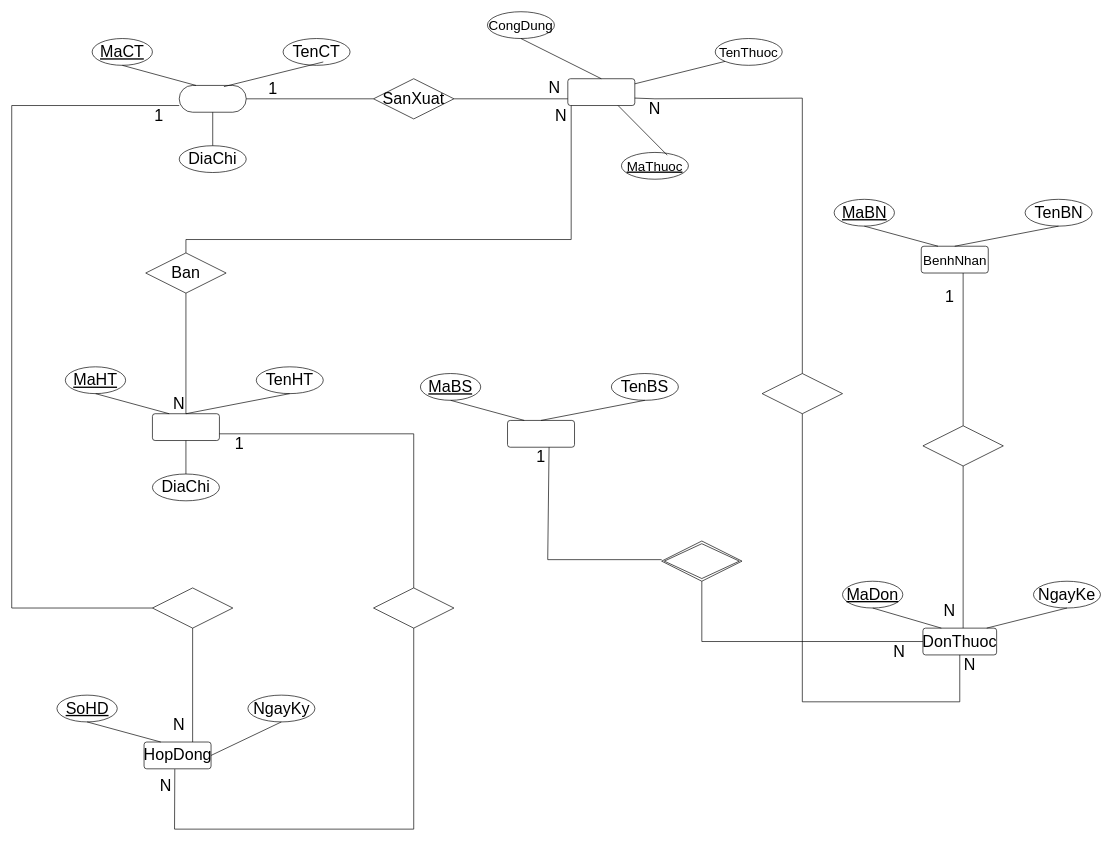
The diagram is 1112 pixels wide and 842 high, and some of its shapes have lost their labels. The centre of each missing label's shape, as x and y in pixels:
BacSi: point (541, 433)
CongTy: point (212, 98)
Gom: point (802, 393)
HieuThuoc: point (185, 427)
Ke: point (701, 560)
Ky: point (192, 607)
Nhan: point (962, 445)
Thuoc: point (601, 92)
Voi: point (413, 607)
